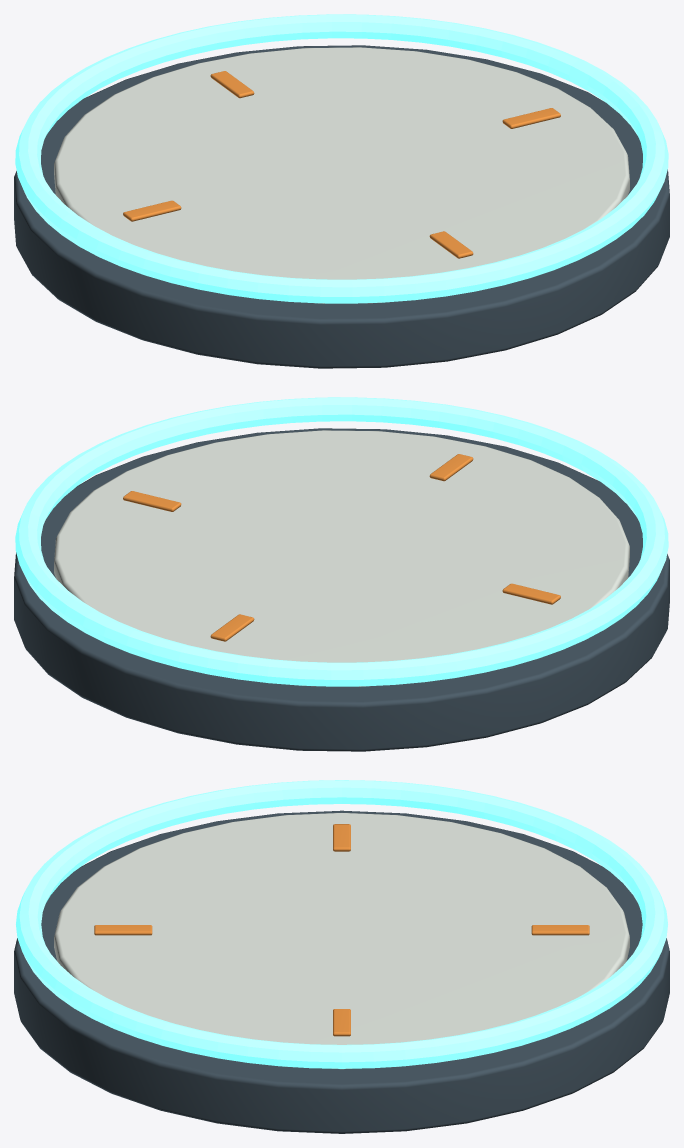
The model's file is dock_beacon.glb.
3 renders of one model, top to bottom at view 1: azimuth 30°, elevation 25°; view 2: azimuth 150°, elevation 25°; view 3: azimuth 270°, elevation 25°, orthographic.
Visible parts, largest first — view 1: Landing surface, Dock foundation, Mint landing ring, Landing marking.002, Landing marking, Landing marking.003, Landing marking.001; view 2: Landing surface, Dock foundation, Mint landing ring, Landing marking.002, Landing marking, Landing marking.001, Landing marking.003; view 3: Landing surface, Dock foundation, Mint landing ring, Landing marking.001, Landing marking.003.
Part boxes in pixels (x1,y1,x2,y2): Landing surface: (54, 47, 629, 303); Dock foundation: (14, 45, 669, 368); Mint landing ring: (15, 14, 668, 303); Landing marking.002: (123, 200, 181, 221); Landing marking: (502, 108, 560, 128); Landing marking.003: (429, 231, 473, 258); Landing marking.001: (210, 71, 254, 98); Landing surface: (54, 430, 629, 686); Dock foundation: (14, 428, 669, 751); Mint landing ring: (15, 397, 668, 686); Landing marking.002: (502, 583, 560, 604); Landing marking: (123, 491, 181, 511); Landing marking.001: (210, 614, 254, 641); Landing marking.003: (429, 454, 473, 481); Landing surface: (54, 813, 629, 1069); Dock foundation: (14, 810, 669, 1133); Mint landing ring: (16, 780, 667, 1068); Landing marking.001: (531, 925, 589, 935); Landing marking.003: (94, 925, 152, 935).
Size of the model in its own units: 3.6 by 0.51 by 3.6.
